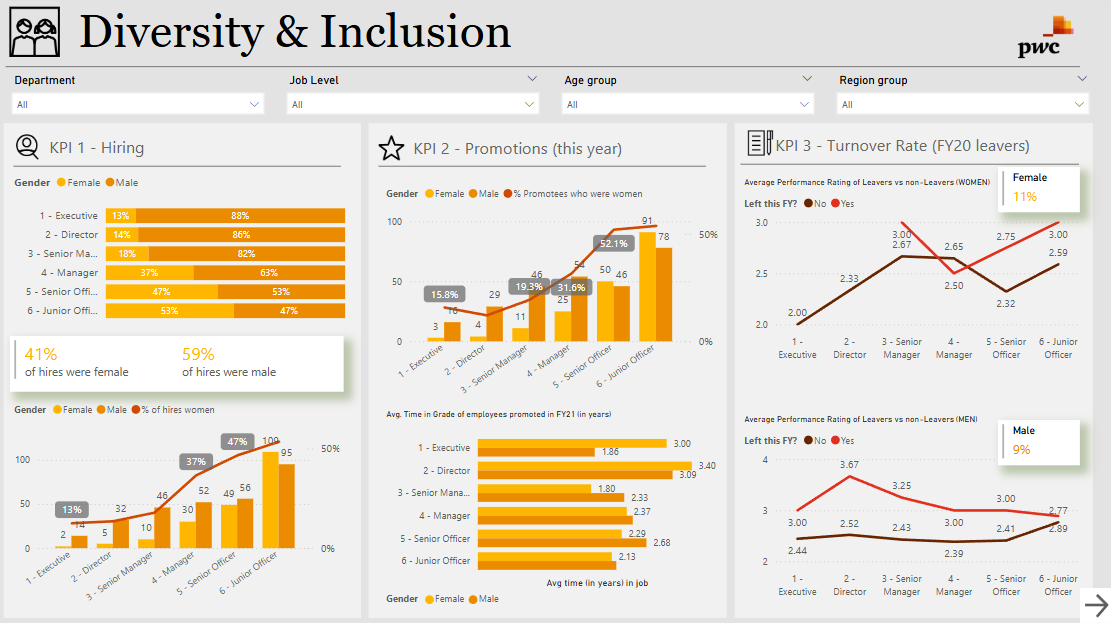

Layout of this report page (visuals, bound fields, positions):
{"tool":"powerbi","page":{"name":"HR Manager (1/2)","canvas":[1280,720],"ordinal":0},"visuals":[{"type":"textbox","box":[88.7,4.8,1172.9,75.2],"z":0},{"type":"basicShape","box":[0,60.8,1253,40.5],"z":1000},{"type":"basicShape","box":[3.9,139.9,418.6,579.7],"z":2000},{"type":"hundredPercentStackedBarChart","fields":{"Series":["HR Manager.Gender"],"Y":["CountNonNull(HR Manager.Employee ID)"],"Category":["HR Manager.Job Level after FY20 promotions"]},"box":[14.5,193.9,389.7,190],"z":3000},{"type":"multiRowCard","fields":{"Values":["HR Manager.% of hires women","HR Manager.% of hires men"]},"box":[14.5,390.7,382.9,63.7],"z":4000},{"type":"lineClusteredColumnComboChart","fields":{"Category":["HR Manager.Job Level after FY20 promotions"],"Series":["HR Manager.Gender"],"Y":["CountNonNull(HR Manager.Employee ID)"],"Y2":["HR Manager.% of hires women"]},"box":[14.5,455.3,382.9,250.8],"z":5000},{"type":"textbox","box":[55,155.3,315.4,35.7],"z":6000},{"type":"basicShape","box":[9.6,175.6,395.5,39.5],"z":7000},{"type":"basicShape","box":[422.5,139.9,419.6,579.7],"z":8000},{"type":"textbox","box":[473,155.7,315.4,35.7],"z":9000},{"type":"basicShape","box":[427.7,175.9,395.5,39.5],"z":10000},{"type":"image","box":[433.1,153.4,39.5,40.5],"z":11000},{"type":"lineClusteredColumnComboChart","fields":{"Y":["CountNonNull(HR Manager.Employee ID)"],"Series":["HR Manager.Gender"],"Y2":["HR Manager.% Promotees who were women"],"Category":["HR Manager.Job Level after FY21 promotions"]},"box":[441.8,207.4,389.7,263.3],"z":12000},{"type":"image","box":[1129,0,151,94.5],"z":13000},{"type":"image","box":[8.7,0,67.5,81],"z":14000},{"type":"image","box":[15.4,153.4,39.5,38.6],"z":15000},{"type":"basicShape","box":[842.1,139.9,419.6,579.7],"z":16000},{"type":"basicShape","box":[843.4,173,408,39.5],"z":17000},{"type":"textbox","box":[888.5,152.5,315.4,35.7],"z":18000},{"type":"clusteredBarChart","title":"Avg. Time in Grade of employees promoted in FY21 (in years)","fields":{"Category":["HR Manager.Job Level after FY20 promotions"],"Series":["HR Manager.Gender"],"Y":["Avg(HR Manager.Time in Job Level @01.07.2020)"]},"box":[441.8,473.6,389.7,236.3],"z":19000},{"type":"lineChart","title":"Average Performance Rating of Leavers vs non-Leavers (WOMEN)","fields":{"Category":["HR Manager.Job Level after FY20 promotions"],"Y":["Avg(HR Manager.FY19 Performance Rating)"],"Series":["HR Manager.FY20 leaver?"]},"box":[852.7,207.4,398.4,218],"z":20000},{"type":"lineChart","title":"Average Performance Rating of Leavers vs non-Leavers (MEN)","fields":{"Category":["HR Manager.Job Level after FY20 promotions"],"Y":["Avg(HR Manager.FY19 Performance Rating)"],"Series":["HR Manager.FY20 leaver?"]},"box":[852.7,479.4,398.4,218],"z":21000},{"type":"multiRowCard","fields":{"Values":["HR Manager.Gender","HR Manager.% Turnover"]},"box":[1148.8,195.8,93.6,52.1],"z":22000},{"type":"multiRowCard","fields":{"Values":["HR Manager.Gender","HR Manager.% Turnover"]},"box":[1148.8,487.1,93.6,52.1],"z":23000},{"type":"slicer","fields":{"Values":["HR Manager.Last Department in FY20"]},"box":[6.8,83.9,310,55.9],"z":24000},{"type":"slicer","fields":{"Values":["HR Manager.Job Level after FY20 promotions"]},"box":[322.5,83.9,310,55.9],"z":25000},{"type":"slicer","fields":{"Values":["HR Manager.Age group"]},"box":[638.2,83.9,310,55.9],"z":26000},{"type":"slicer","fields":{"Values":["HR Manager.Broad region group: nationality 1"]},"box":[954,83.9,310,55.9],"z":27000},{"type":"image","box":[852.7,149.5,47.3,38.6],"z":28000},{"type":"actionButton","box":[1243.1,679.1,36.9,40.2],"z":29000},{"type":"textbox","box":[7.7,689.7,397.4,29.9],"z":30000}]}

Visuals, with their boxes in screenshot pixels (x1, y1, x2, y2), scaled from the page's 1280x720 canvas onto the 1111x623 screenshot:
textbox: x1=77, y1=4, x2=1095, y2=69
basicShape: x1=0, y1=53, x2=1088, y2=88
basicShape: x1=3, y1=121, x2=367, y2=622
hundredPercentStackedBarChart - HR Manager.Gender x CountNonNull(HR Manager.Employee ID): x1=13, y1=168, x2=351, y2=332
multiRowCard - HR Manager.% of hires women x HR Manager.% of hires men: x1=13, y1=338, x2=345, y2=393
lineClusteredColumnComboChart - HR Manager.Job Level after FY20 promotions x HR Manager.Gender: x1=13, y1=394, x2=345, y2=611
textbox: x1=48, y1=134, x2=321, y2=165
basicShape: x1=8, y1=152, x2=352, y2=186
basicShape: x1=367, y1=121, x2=731, y2=622
textbox: x1=411, y1=135, x2=684, y2=166
basicShape: x1=371, y1=152, x2=715, y2=186
image: x1=376, y1=133, x2=410, y2=168
lineClusteredColumnComboChart - CountNonNull(HR Manager.Employee ID) x HR Manager.Gender: x1=383, y1=179, x2=722, y2=407
image: x1=980, y1=0, x2=1110, y2=82
image: x1=8, y1=0, x2=66, y2=70
image: x1=13, y1=133, x2=48, y2=166
basicShape: x1=731, y1=121, x2=1095, y2=622
basicShape: x1=732, y1=150, x2=1086, y2=184
textbox: x1=771, y1=132, x2=1045, y2=163
"Avg. Time in Grade of employees promoted in FY21 (in years)" clusteredBarChart: x1=383, y1=410, x2=722, y2=614
"Average Performance Rating of Leavers vs non-Leavers (WOMEN)" lineChart: x1=740, y1=179, x2=1086, y2=368
"Average Performance Rating of Leavers vs non-Leavers (MEN)" lineChart: x1=740, y1=415, x2=1086, y2=603
multiRowCard - HR Manager.Gender x HR Manager.% Turnover: x1=997, y1=169, x2=1078, y2=215
multiRowCard - HR Manager.Gender x HR Manager.% Turnover: x1=997, y1=421, x2=1078, y2=467
slicer - HR Manager.Last Department in FY20: x1=6, y1=73, x2=275, y2=121
slicer - HR Manager.Job Level after FY20 promotions: x1=280, y1=73, x2=549, y2=121
slicer - HR Manager.Age group: x1=554, y1=73, x2=823, y2=121
slicer - HR Manager.Broad region group: nationality 1: x1=828, y1=73, x2=1097, y2=121
image: x1=740, y1=129, x2=781, y2=163
actionButton: x1=1079, y1=588, x2=1110, y2=622
textbox: x1=7, y1=597, x2=352, y2=622
